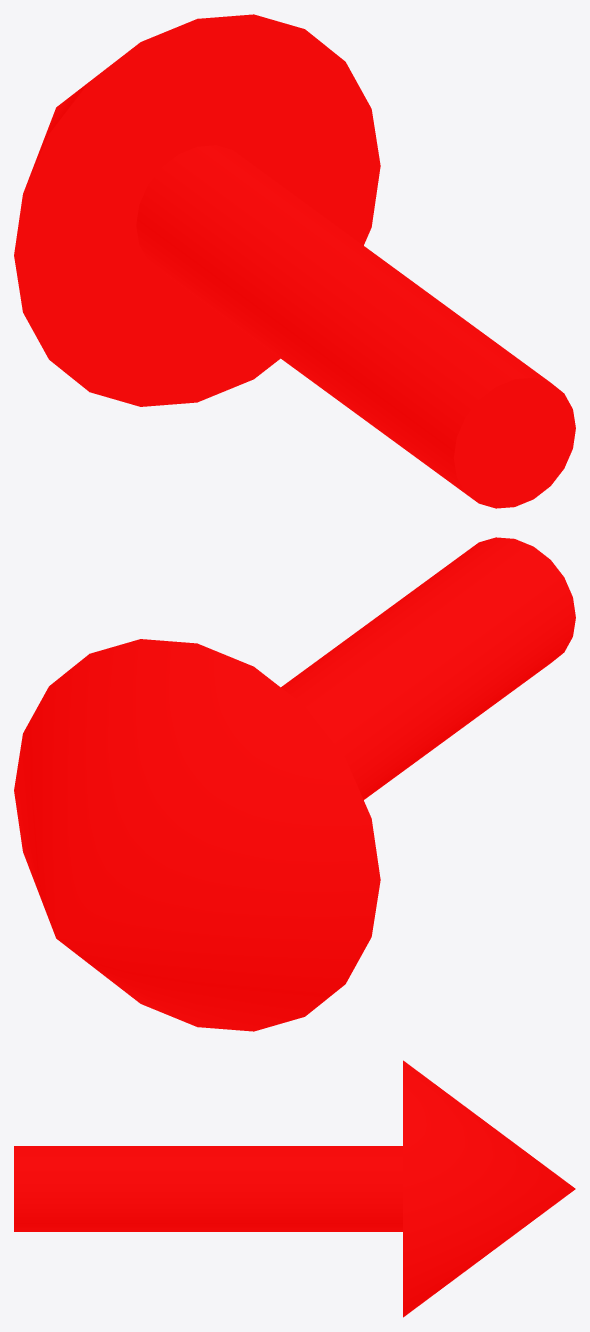
Rendered from arrow.dae.
The picture shows the model from 3 angles, top to bottom: view 1: azimuth 30°, elevation 25°; view 2: azimuth 150°, elevation 25°; view 3: azimuth 270°, elevation 25°; orthographic projection. The views are drawn at different scales.
Parts seen in each view (by area): view 1: pCone1, pCylinder1; view 2: pCone1, pCylinder1; view 3: pCylinder1, pCone1.
Part boxes in pixels (x1,y1,x2,y2): pCone1: (14, 14, 380, 406); pCylinder1: (136, 145, 575, 508); pCone1: (14, 639, 380, 1031); pCylinder1: (281, 537, 575, 799); pCylinder1: (14, 1146, 402, 1231); pCone1: (403, 1060, 575, 1317).
Size of the model in its own units: 0.6 by 0.6 by 1.3.
